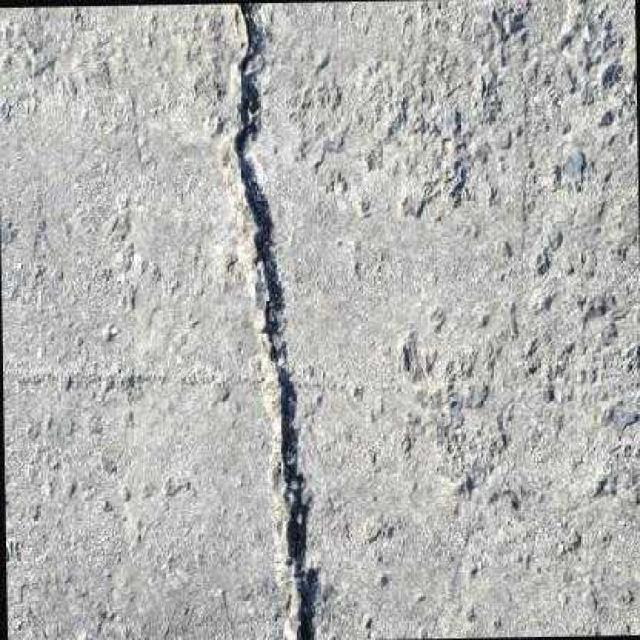D00: (225, 1, 316, 640)
